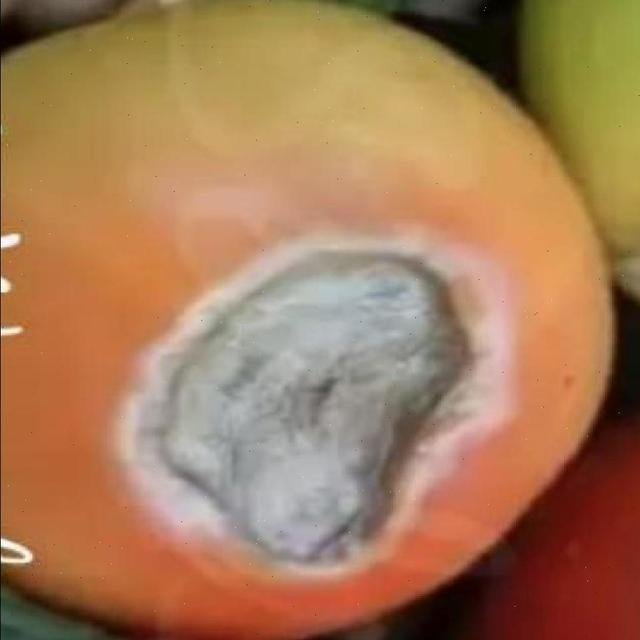Blossom End Rot Fruit: (65, 147, 335, 389)
